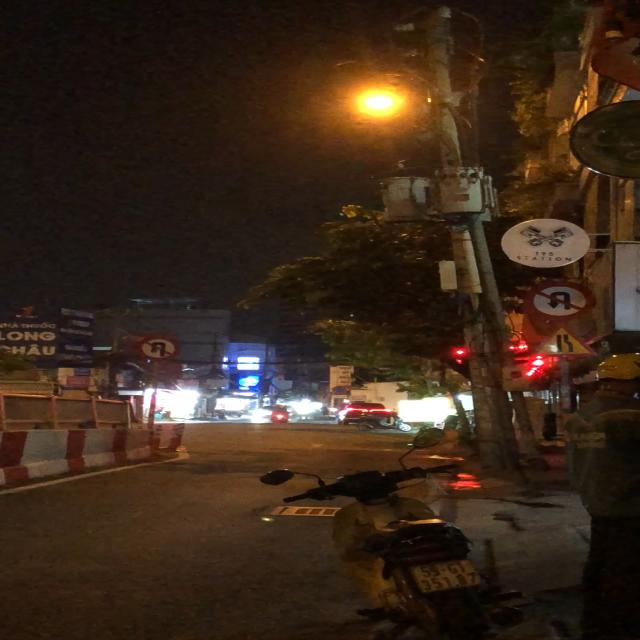Bien bao cam quay dau xe: (518, 276, 598, 319), (134, 334, 183, 362)
Bien bao duong bi thu hep: (526, 324, 599, 359)
